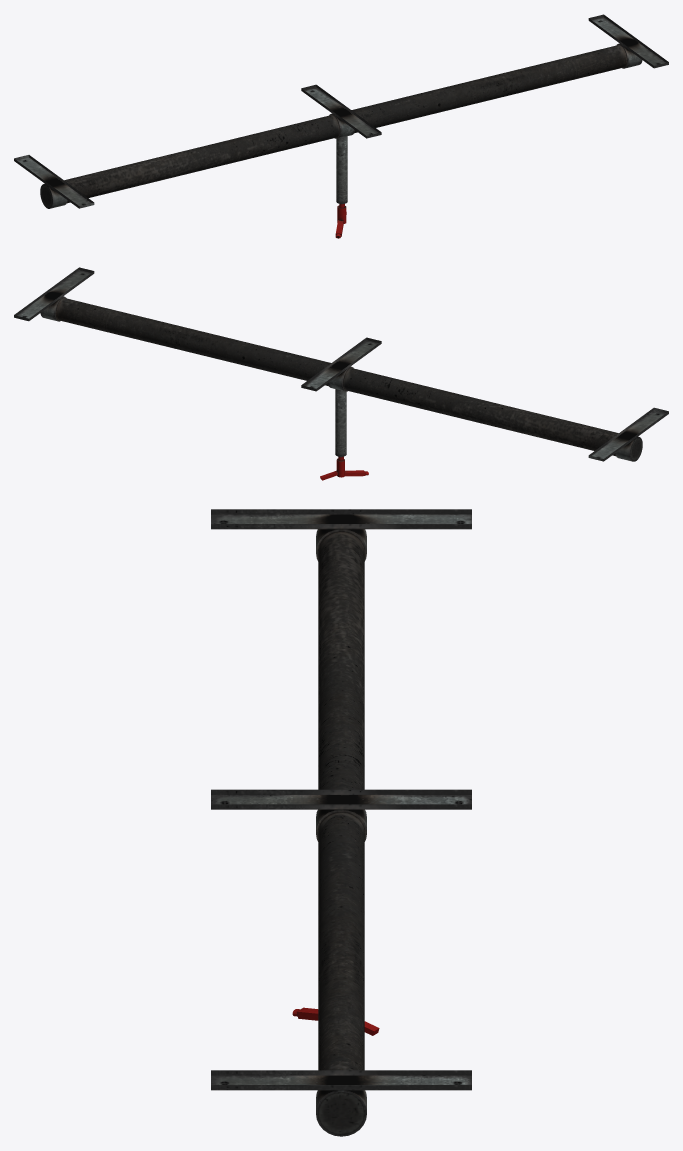
Rendered from game_hall_sprinkler_system.fbx.
3 renders of one model, top to bottom at view 1: azimuth 30°, elevation 25°; view 2: azimuth 150°, elevation 25°; view 3: azimuth 270°, elevation 25°, orthographic. The views are drawn at different scales.
Parts seen in each view (by area): view 1: Mesh2 skpD95_1 Model; view 2: Mesh2 skpD95_1 Model; view 3: Mesh2 skpD95_1 Model.
Part boxes in pixels (left/top/right/bottom): Mesh2 skpD95_1 Model: left=14, top=14, right=668, bottom=238; Mesh2 skpD95_1 Model: left=14, top=267, right=668, bottom=480; Mesh2 skpD95_1 Model: left=211, top=509, right=471, bottom=1136.
Bounding box in the file's own units: 235 × 44.35 × 45.
Materials: 1 (1 with a texture image).
